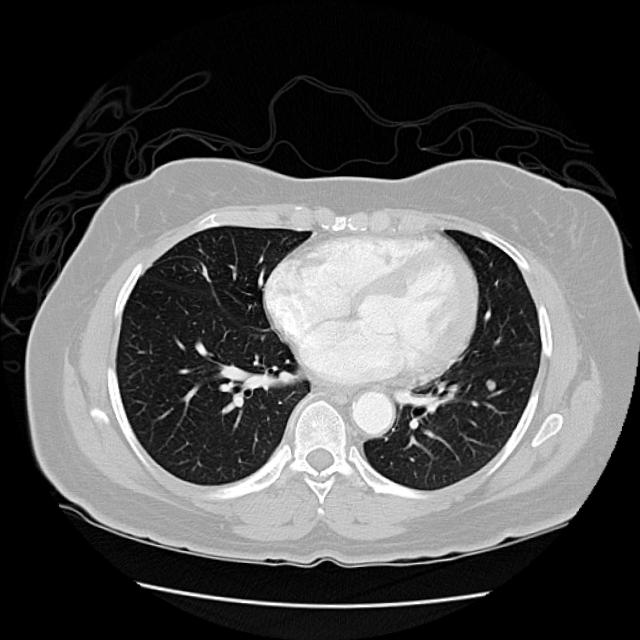nodule: (474, 369, 504, 398)
